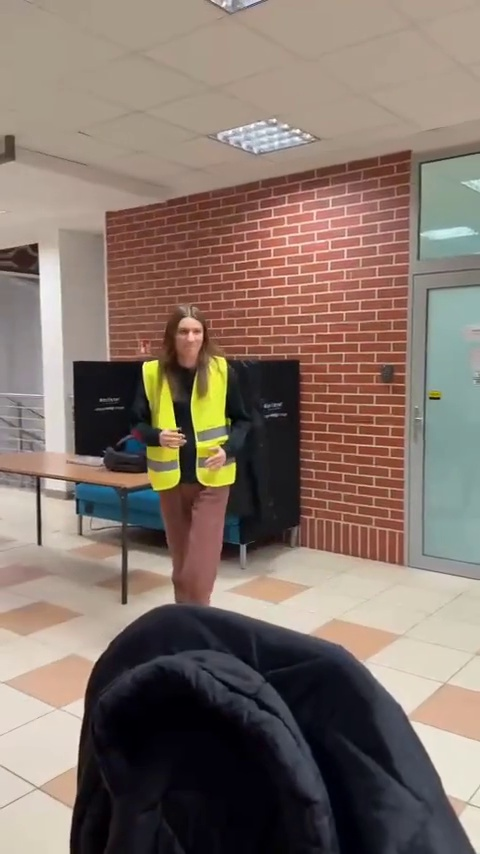vest: (136, 305, 252, 593)
